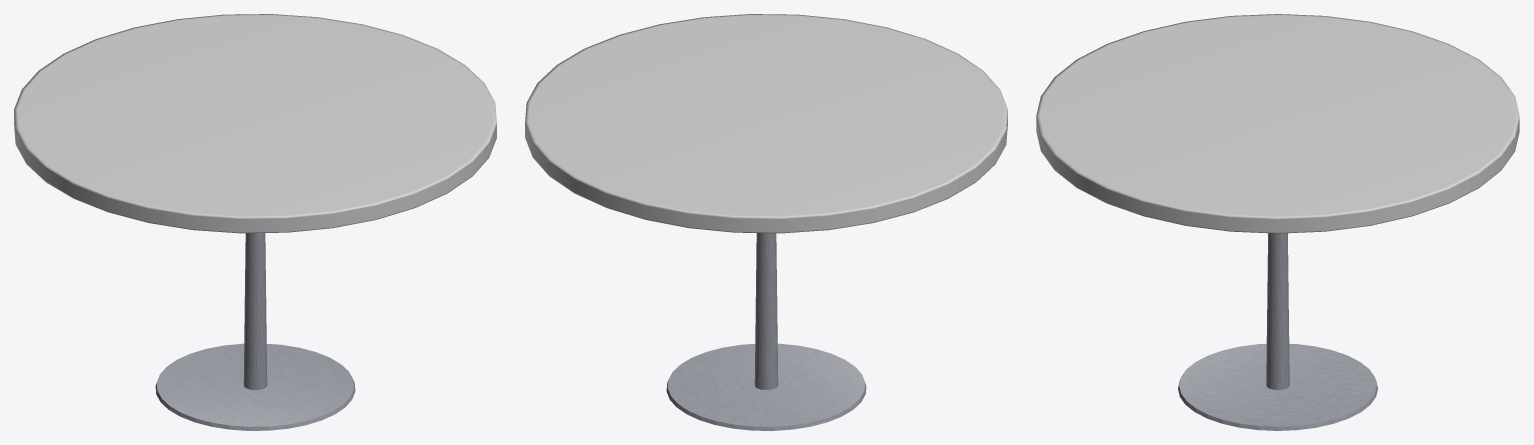
File: RoundTableMk3.fbx
3 views of the same model, side by side, from view 1: azimuth 30°, elevation 25°; view 2: azimuth 150°, elevation 25°; view 3: azimuth 270°, elevation 25° (orthographic).
Visible parts, largest first — view 1: RoundTableMk3; view 2: RoundTableMk3; view 3: RoundTableMk3.
Part boxes in pixels (<box>): RoundTableMk3: <box>14,14,496,430</box>; RoundTableMk3: <box>525,14,1007,430</box>; RoundTableMk3: <box>1036,14,1519,430</box>.
Bounding box in the file's own units: 143 × 89.12 × 143.
